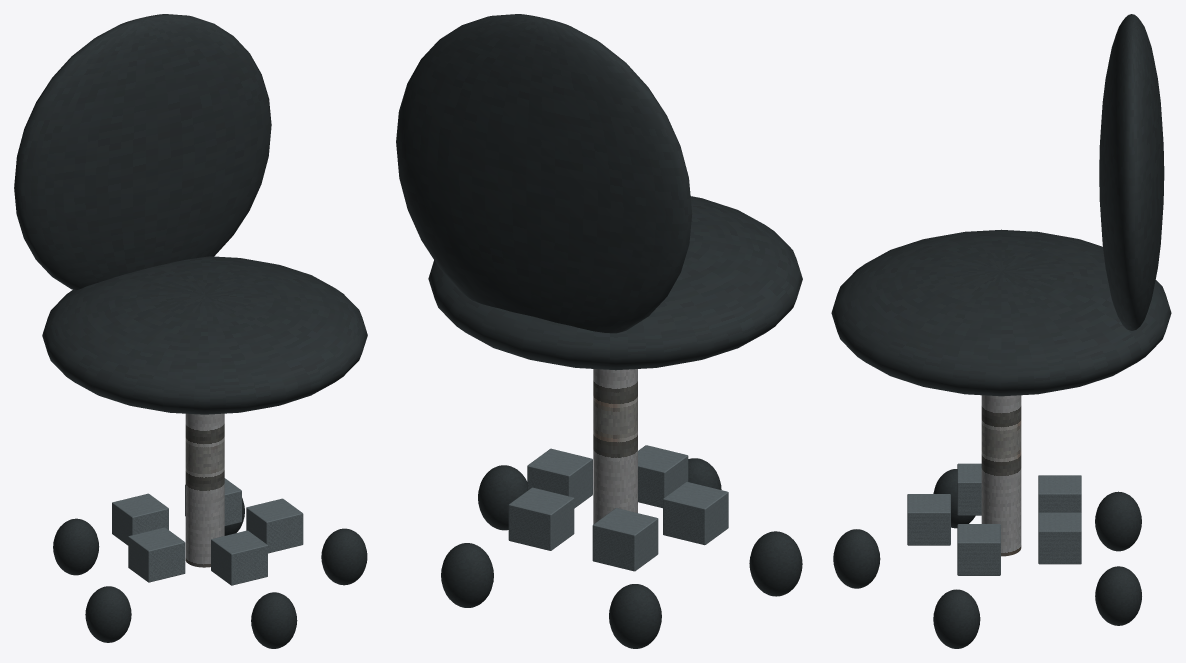
File: office-chair.glb
The picture shows the model from 3 angles, left to right: view 1: azimuth 30°, elevation 25°; view 2: azimuth 150°, elevation 25°; view 3: azimuth 270°, elevation 25°; orthographic projection. The views are drawn at different scales.
Parts seen in each view (by area): view 1: back, seat, spoke (×5), caster (×4), gas-lift; view 2: back, seat, spoke (×5), caster (×5), gas-lift; view 3: seat, back, spoke (×5), caster (×5), gas-lift.
Part boxes in pixels (x1=…): back: x1=14, y1=14, x2=271, y2=290; seat: x1=42, y1=256, x2=367, y2=414; spoke (×5): x1=112, y1=478, x2=303, y2=585; caster (×4): x1=53, y1=518, x2=367, y2=648; gas-lift: x1=185, y1=413, x2=224, y2=567; back: x1=396, y1=14, x2=692, y2=333; seat: x1=428, y1=196, x2=802, y2=370; spoke (×5): x1=508, y1=445, x2=728, y2=571; caster (×5): x1=441, y1=458, x2=802, y2=648; gas-lift: x1=593, y1=369, x2=637, y2=524; seat: x1=831, y1=229, x2=1171, y2=396; back: x1=1099, y1=14, x2=1164, y2=330; spoke (×5): x1=907, y1=463, x2=1081, y2=575; caster (×5): x1=833, y1=469, x2=1141, y2=648; gas-lift: x1=981, y1=395, x2=1021, y2=556.
Bounding box in the file's own units: 0.5096 × 0.92 × 0.5076.
3 materials, 3 textured.
